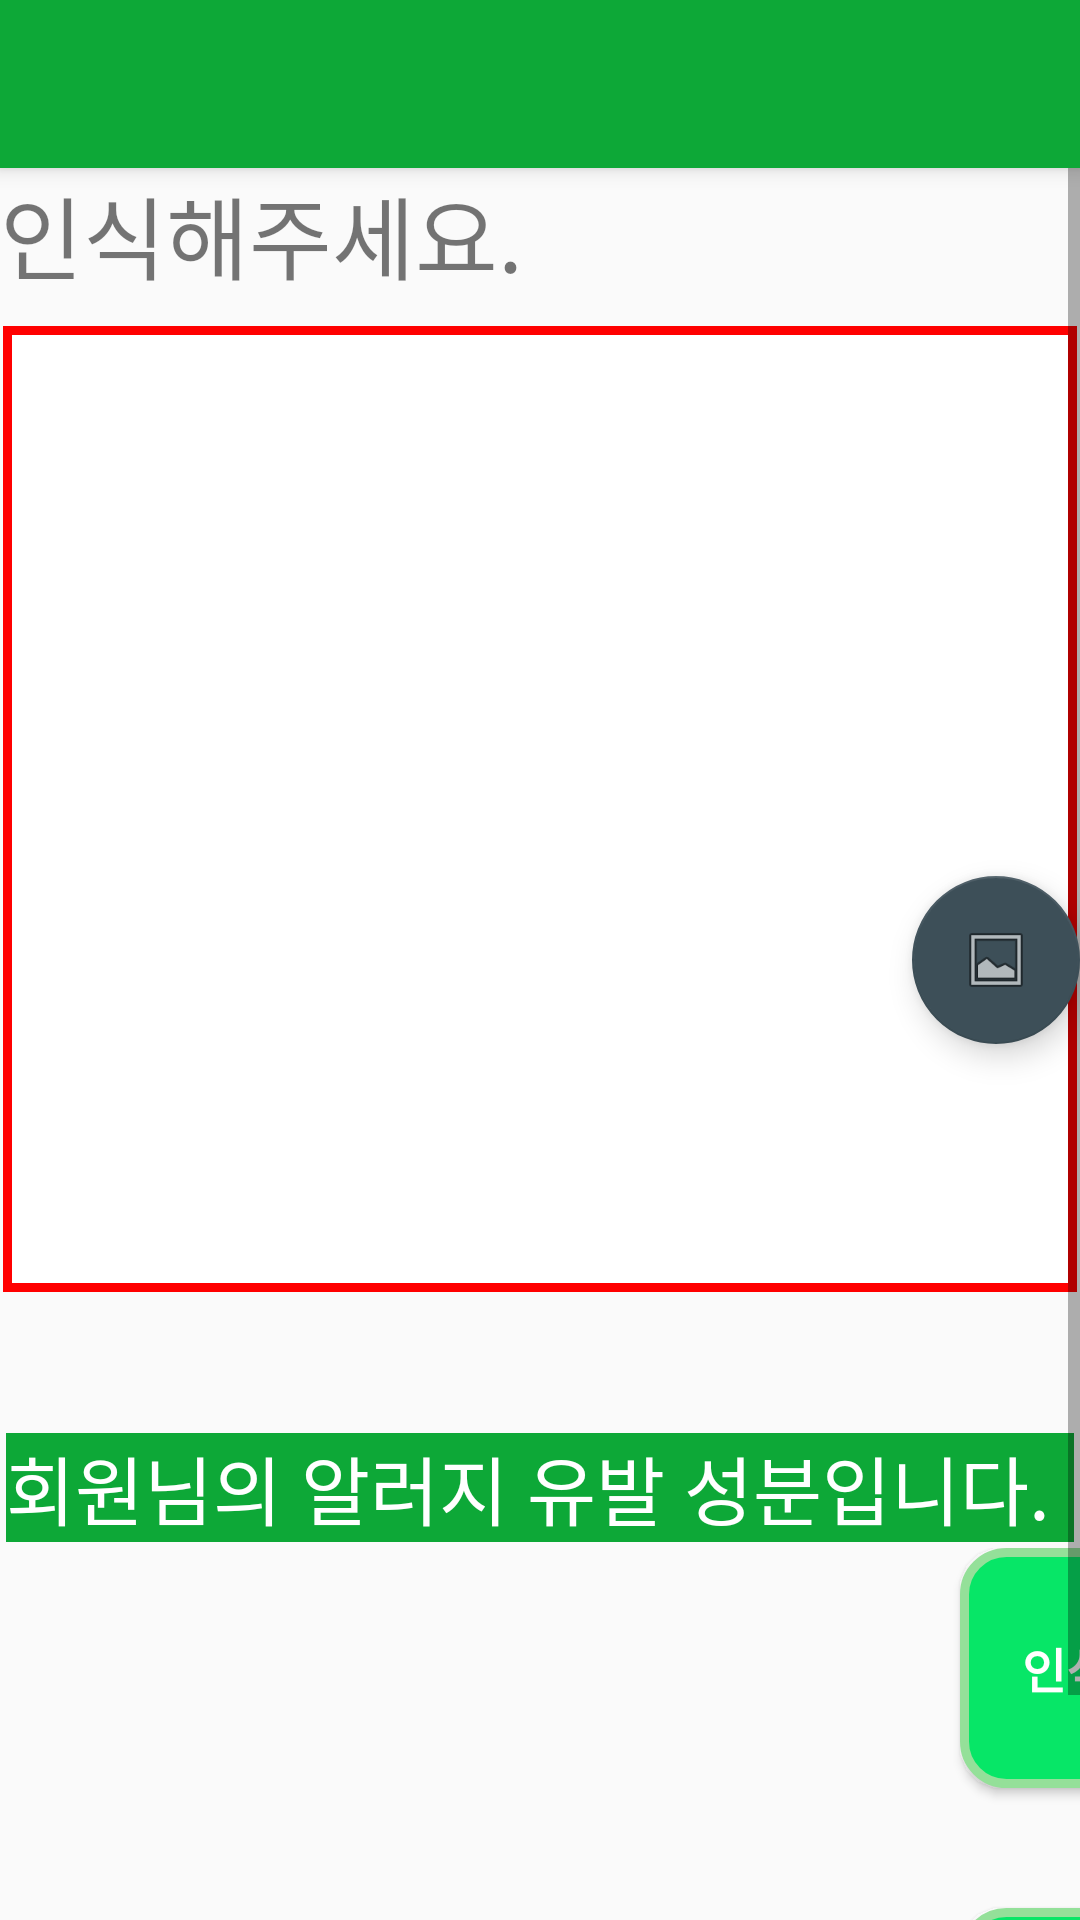

Point at icon controls on the screen. Image size 1080*1920, points as (x,y).
gallery: (996,960)
